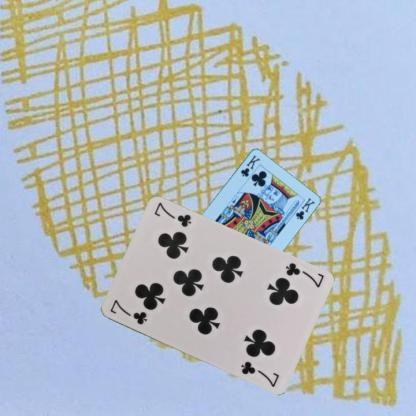7c: (282, 260, 326, 289), (107, 297, 148, 326)
Kc: (238, 152, 262, 178)
